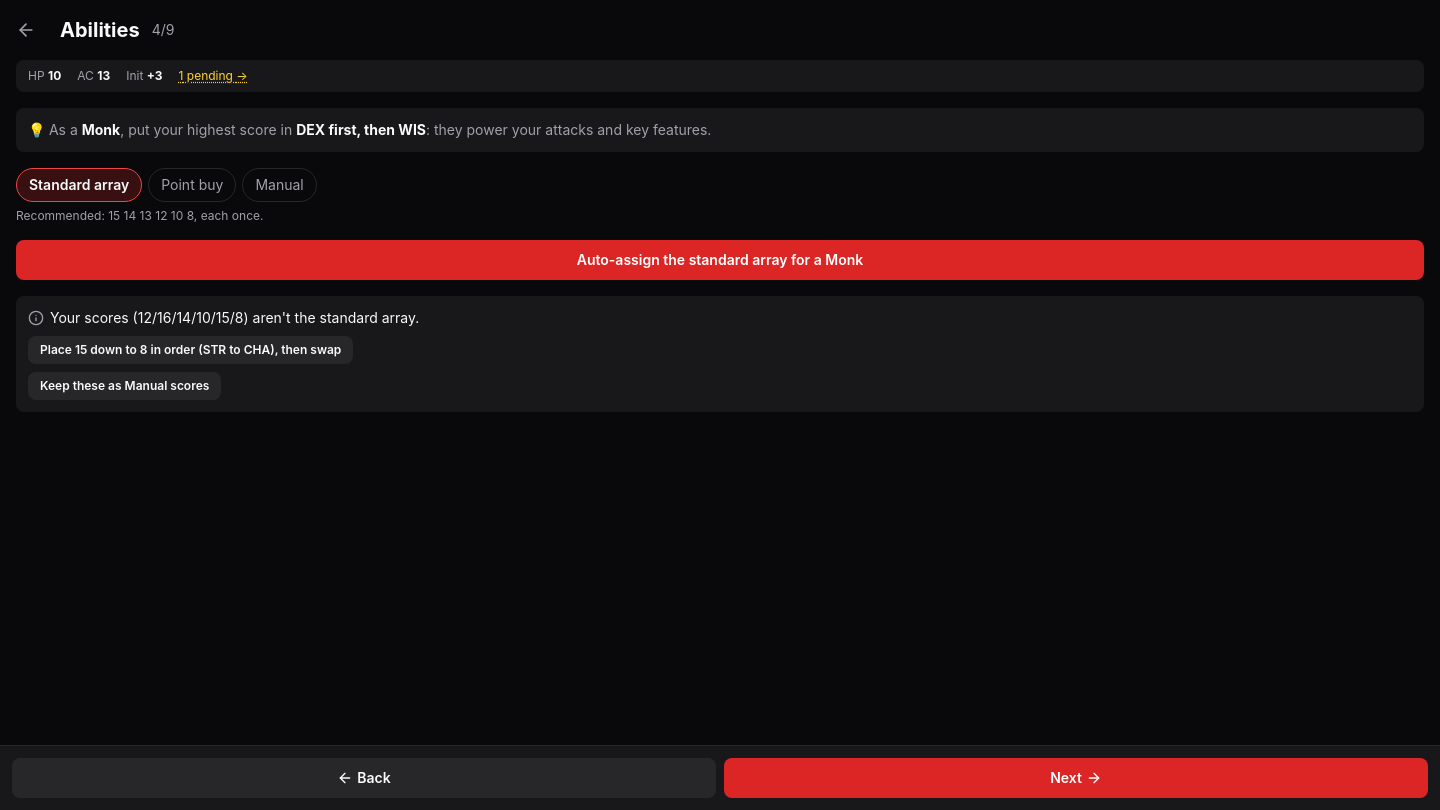
Test: changes that take something away › the abilities step › standard array › shows scores off the array as they are, and keeps them as Manual on request
This screenshot has width=1440, height=810.
Expected: the text "Your scores (12/16/14/10/15/8) aren't the standard array." is shown, [28,309,419,326]
What coordinates should you click on to do the following:
click the button "Keep these as Manual scores"
I would click on:
 (125, 386)
Its box is [28,372,221,400].
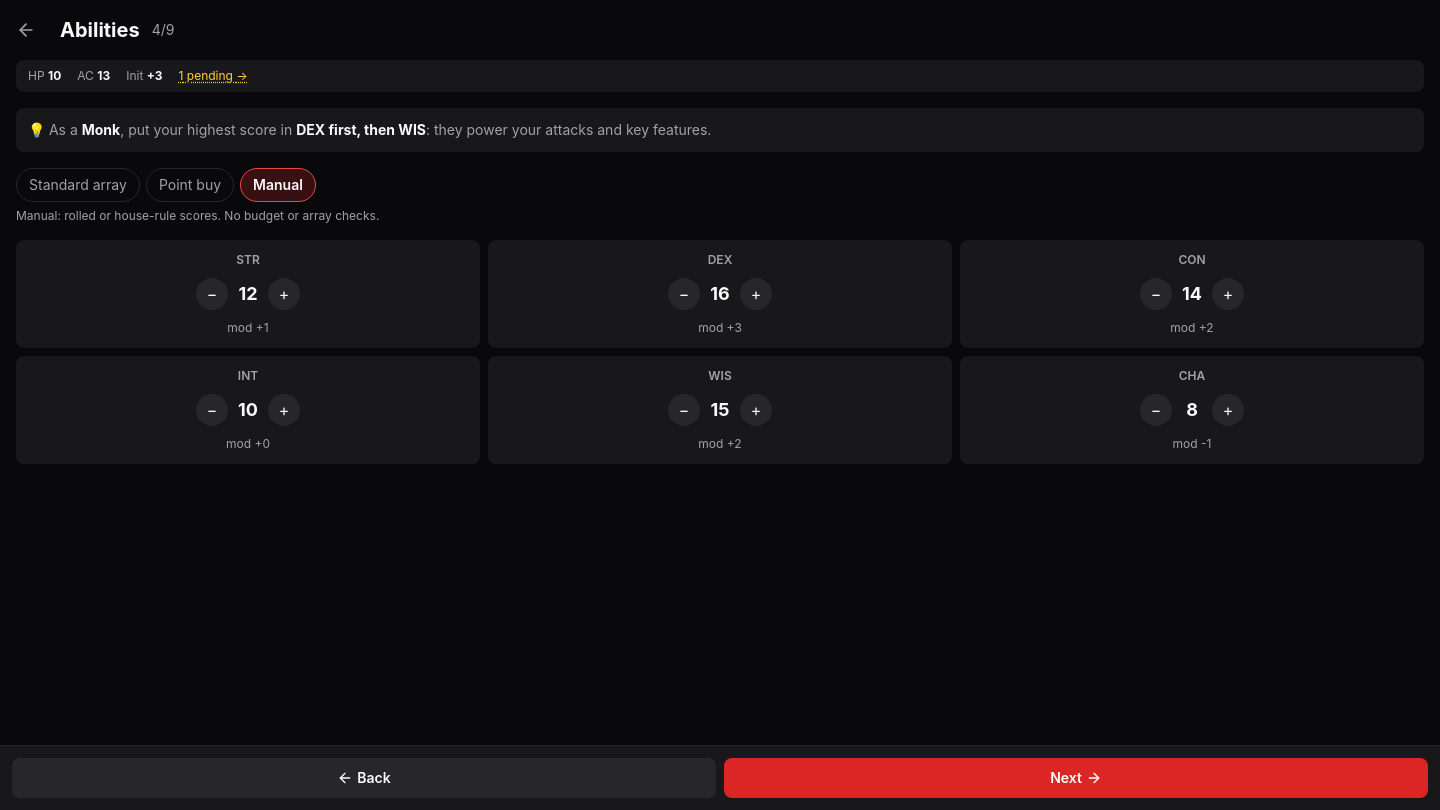
Result: the button named "Increase STR" is shown at [262,272,306,316]
